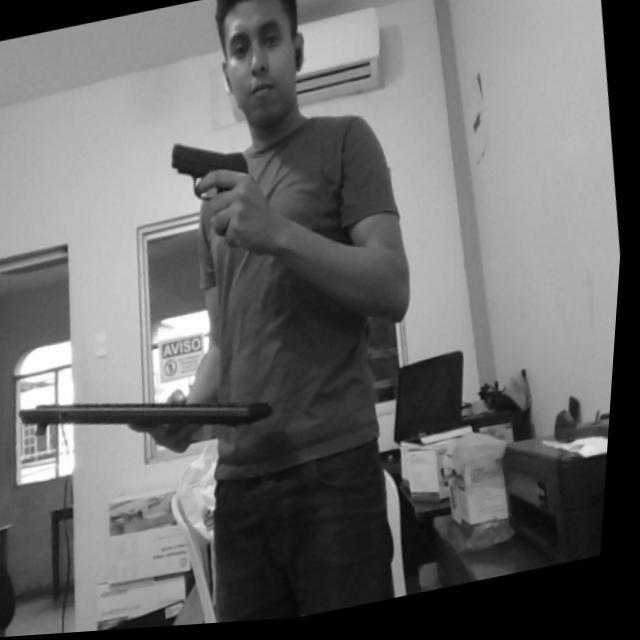weapon: (165, 128, 260, 212)
